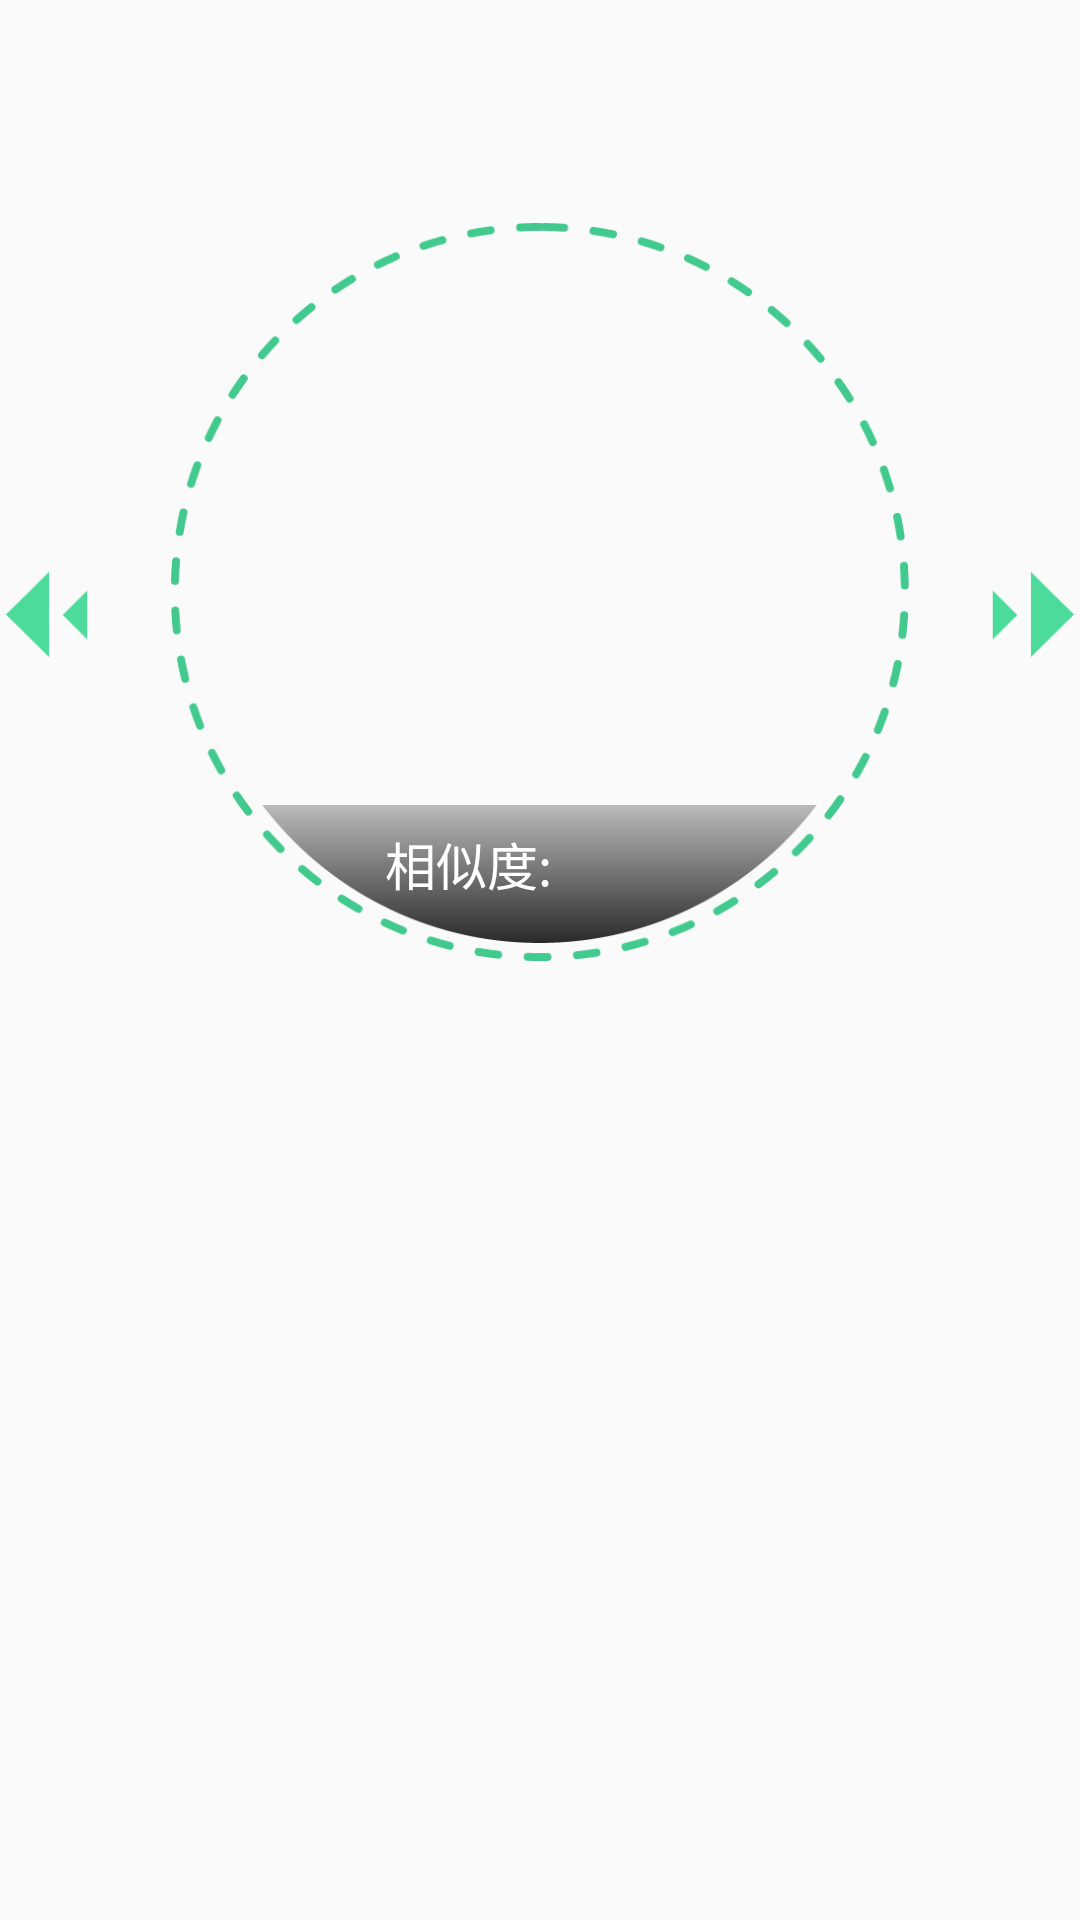

Icons on this 1080w x 1920h Android screen, each with its box as BBox(x1, y1, x2, y2):
camera page left arrow: BBox(6, 572, 88, 657)
camera page right arrow: BBox(992, 572, 1074, 657)
